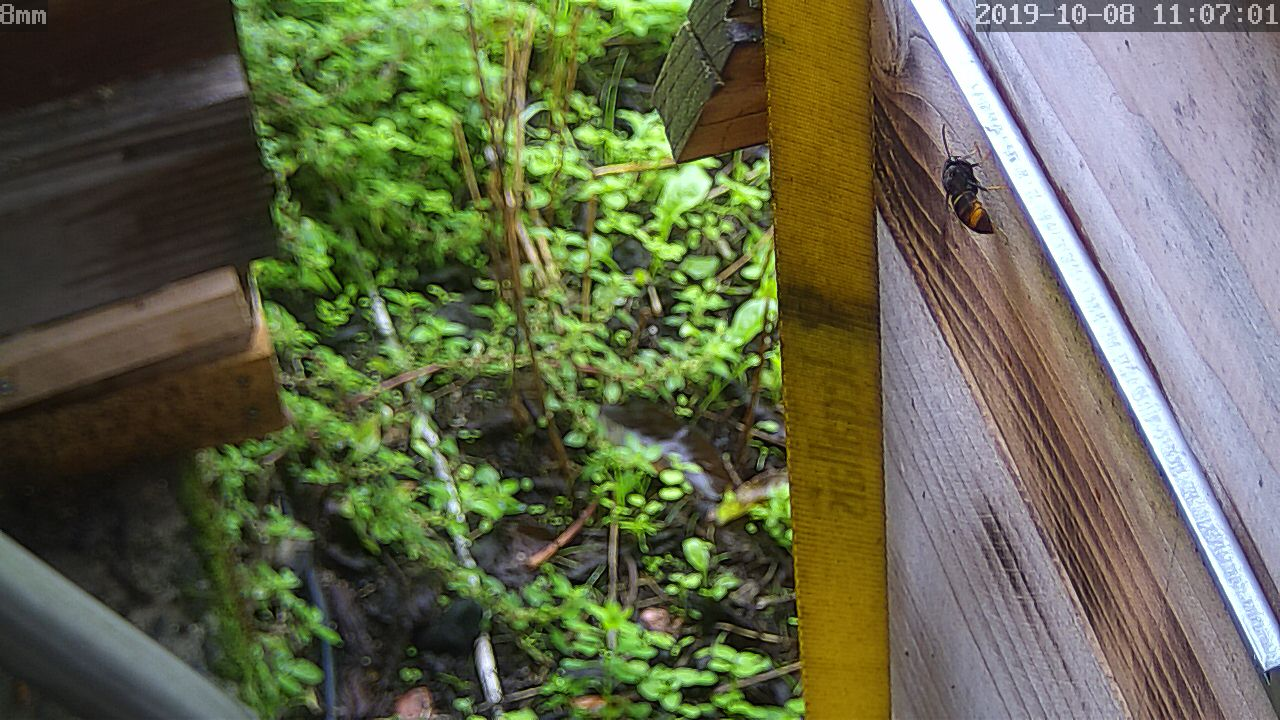hornet: (934, 146, 996, 245)
